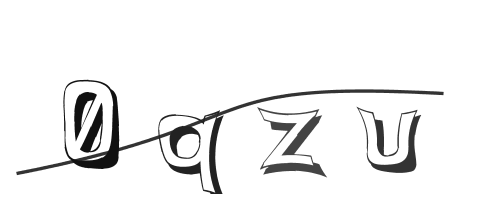0: (58, 78, 122, 172)
U: (357, 103, 423, 175)
Z: (252, 104, 325, 176)
q: (157, 109, 229, 199)
